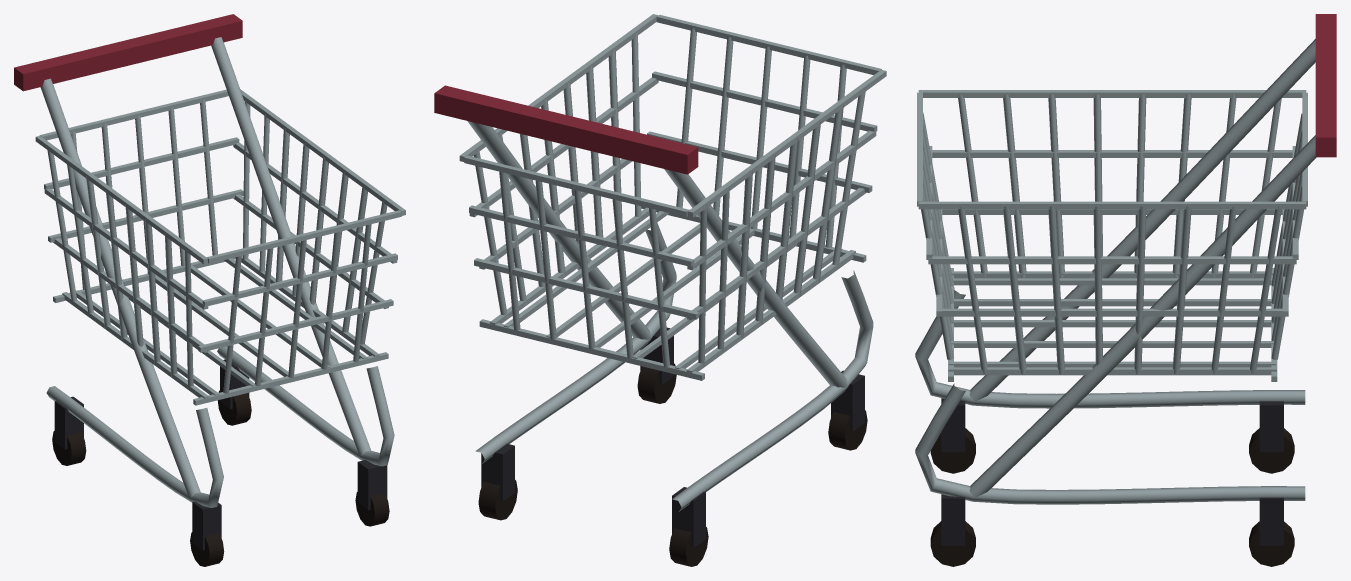
Rendered from mia-shop_cart.glb.
3 views of the same model, side by side, from view 1: azimuth 30°, elevation 25°; view 2: azimuth 150°, elevation 25°; view 3: azimuth 270°, elevation 25° (orthographic). The views are drawn at different scales.
Visible parts, largest first — view 1: Body_steel, Body_velvet, Body_iron, Body_black; view 2: Body_steel, Body_velvet, Body_iron, Body_black; view 3: Body_steel, Body_iron, Body_black, Body_velvet.
Part boxes in pixels (box(x1,y1,x2,y2)): Body_steel: box(35, 37, 405, 507); Body_velvet: box(14, 14, 242, 91); Body_iron: box(54, 359, 387, 550); Body_black: box(52, 390, 389, 566); Body_steel: box(459, 14, 886, 511); Body_velvet: box(434, 85, 698, 174); Body_iron: box(481, 327, 864, 547); Body_black: box(478, 363, 867, 566); Body_steel: box(915, 39, 1316, 504); Body_iron: box(941, 398, 1283, 545); Body_black: box(930, 428, 1294, 566); Body_velvet: box(1315, 14, 1336, 157).
Size of the model in its own units: 0.592 by 0.983 by 0.8527.
